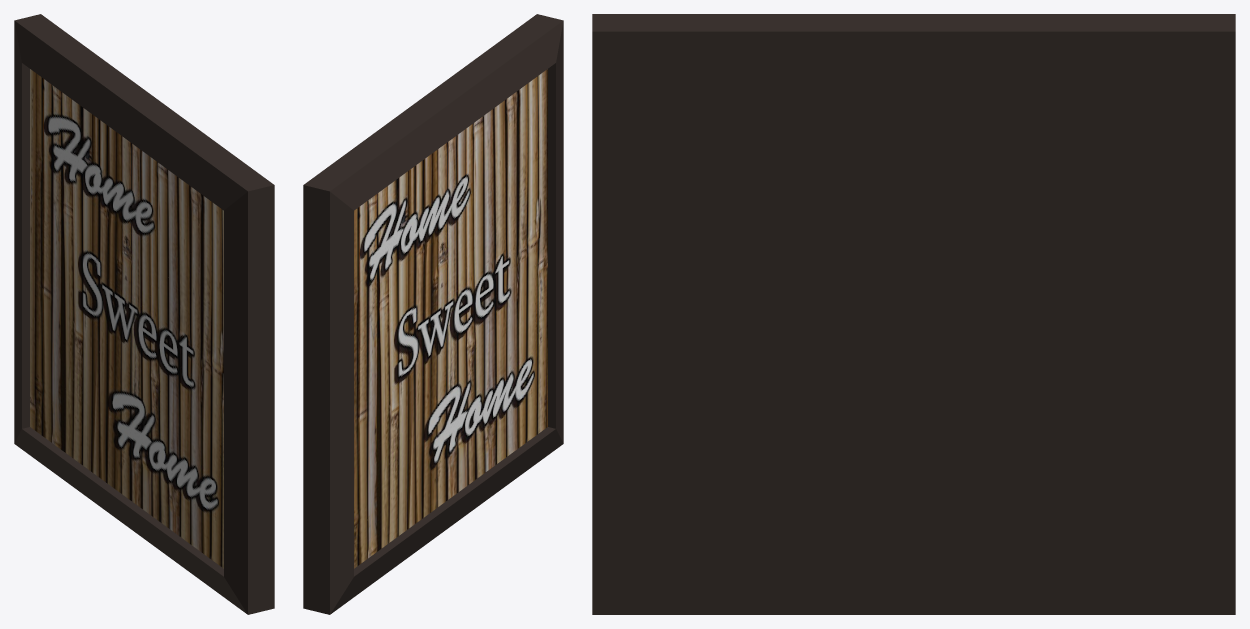
File: HSHPic.fbx
The picture shows the model from 3 angles, left to right: view 1: azimuth 30°, elevation 25°; view 2: azimuth 150°, elevation 25°; view 3: azimuth 270°, elevation 25°; orthographic projection. The views are drawn at different scales.
Parts seen in each view (by area): view 1: HSHPic; view 2: HSHPic; view 3: HSHPic.
Boxes of the visible parts, <box> form: HSHPic: <box>14,14,274,614</box>; HSHPic: <box>303,14,563,614</box>; HSHPic: <box>592,14,1235,614</box>.
Size of the model in its own units: 4.3 by 50 by 50.
